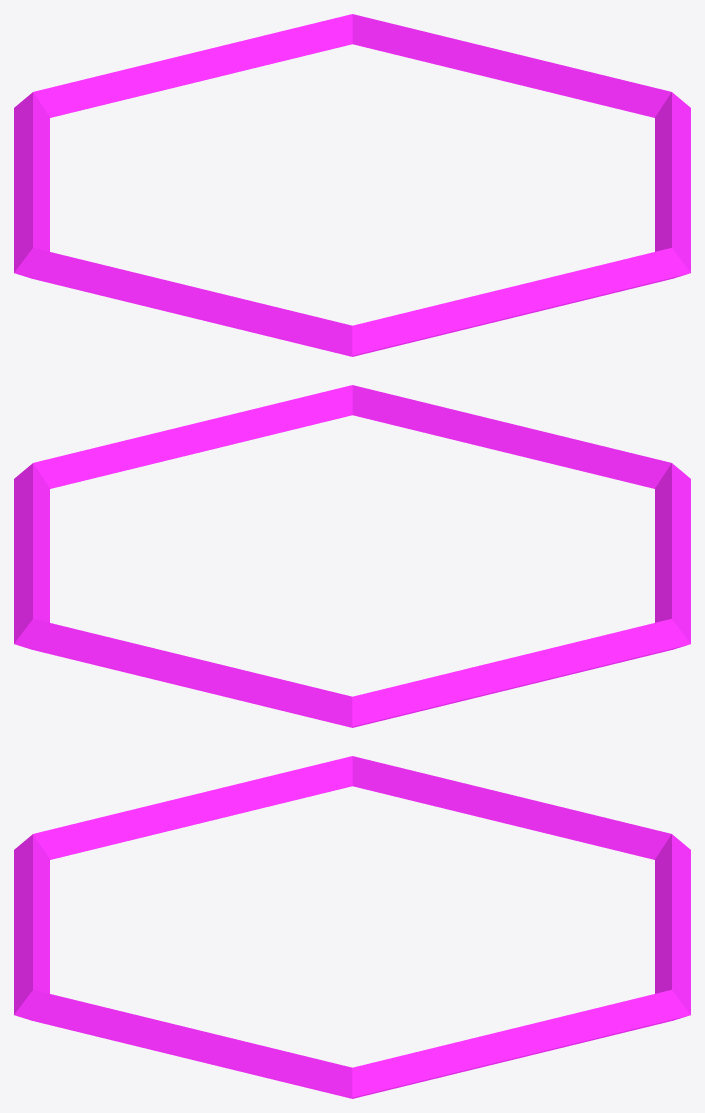
File: Hexagon2.fbx
The picture shows the model from 3 angles, top to bottom: view 1: azimuth 30°, elevation 25°; view 2: azimuth 150°, elevation 25°; view 3: azimuth 270°, elevation 25°; orthographic projection.
Parts seen in each view (by area): view 1: hex2; view 2: hex2; view 3: hex2.
Part boxes in pixels (left/top/right/bottom): hex2: left=14, top=14, right=690, bottom=356; hex2: left=14, top=385, right=690, bottom=727; hex2: left=14, top=756, right=690, bottom=1098.
Size of the model in its own units: 5.64 by 0.245 by 4.88.
